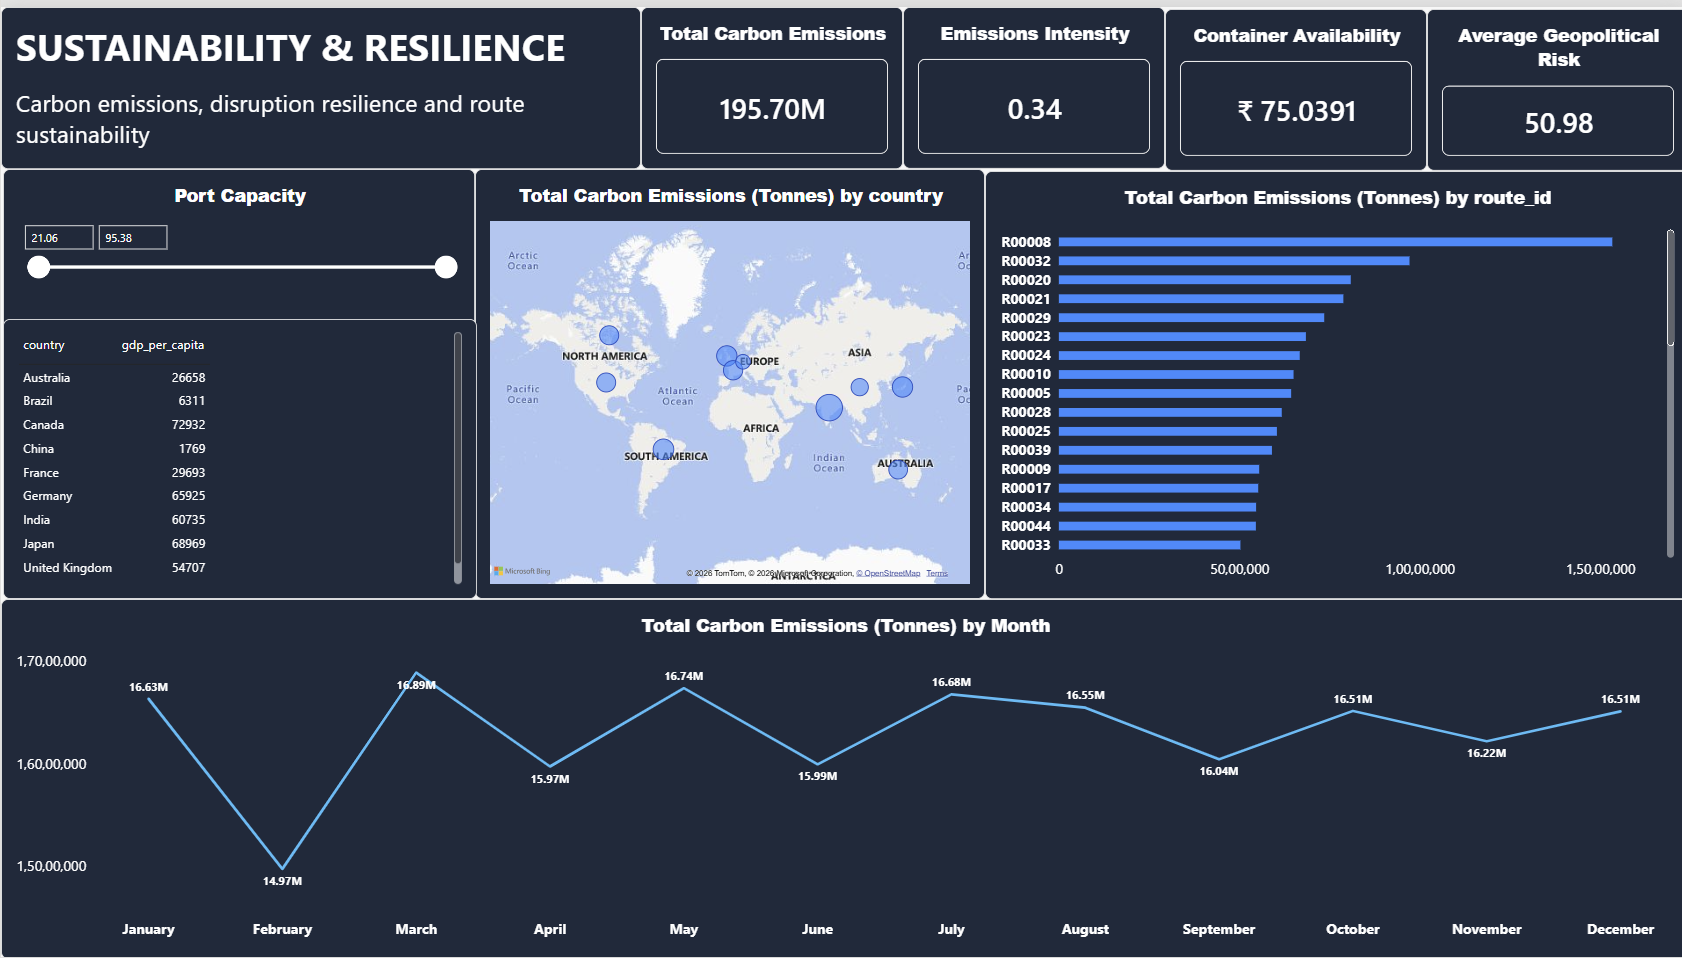

This screenshot's page, from the dashboard's own definition file:
{"tool":"powerbi","page":{"name":"Sustainability & Supply Chain Resilience","canvas":[1920,1080],"ordinal":4},"visuals":[{"type":"cardVisual","title":"Total Carbon Emissions","fields":{"Data":["_Measures.Total Carbon Emissions (Tonnes)"]},"box":[728,0,298,184.3],"z":0},{"type":"cardVisual","title":"Emissions Intensity","fields":{"Data":["_Measures.Average Emissions per Tonne"]},"box":[1026,0,298,184],"z":1000},{"type":"cardVisual","title":"Container Availability","fields":{"Data":["_Measures.Average Container Availability"]},"box":[1324,2.3,298,184],"z":2000},{"type":"cardVisual","title":"Average Geopolitical Risk","fields":{"Data":["_Measures.Average Geopolitical Risk"]},"box":[1622,2.3,298,184],"z":3000},{"type":"lineChart","fields":{"Category":["fact_commodity_market.date.Variation.Date Hierarchy.Month"],"Y":["_Measures.Total Carbon Emissions (Tonnes)"]},"box":[0,673.4,1920,409.5],"z":4000},{"type":"clusteredBarChart","fields":{"Category":["fact_route_operation.route_id"],"Y":["_Measures.Total Carbon Emissions (Tonnes)"]},"box":[1119.2,186.5,800.8,486.8],"z":5000},{"type":"map","fields":{"Category":["dim_origin_country.country"],"Size":["_Measures.Total Carbon Emissions (Tonnes)"]},"box":[539.1,184.3,580.1,489.1],"z":6000},{"type":"slicer","title":"Port Capacity","fields":{"Values":["dim_origin_country.port_capacity_index"]},"box":[3,187.9,536.4,181.8],"z":7000},{"type":"tableEx","fields":{"Values":["dim_origin_country.country","dim_origin_country.gdp_per_capita"]},"box":[2.3,354.9,539.1,318.5],"z":8000},{"type":"textbox","box":[0,0,728,184.3],"z":9000}]}

Visuals, with their boxes in screenshot pixels (x1, y1, x2, y2), scaled from the page's 1920x1080 canvas onto the 1682x958 screenshot:
"Total Carbon Emissions" cardVisual: bbox(638, 0, 899, 163)
"Emissions Intensity" cardVisual: bbox(899, 0, 1160, 163)
"Container Availability" cardVisual: bbox(1160, 2, 1421, 165)
"Average Geopolitical Risk" cardVisual: bbox(1421, 2, 1681, 165)
lineChart - fact_commodity_market.date.Variation.Date Hierarchy.Month x _Measures.Total Carbon Emissions (Tonnes): bbox(0, 597, 1681, 957)
clusteredBarChart - fact_route_operation.route_id x _Measures.Total Carbon Emissions (Tonnes): bbox(980, 165, 1681, 597)
map - dim_origin_country.country x _Measures.Total Carbon Emissions (Tonnes): bbox(472, 163, 980, 597)
"Port Capacity" slicer: bbox(3, 167, 473, 328)
tableEx - dim_origin_country.country x dim_origin_country.gdp_per_capita: bbox(2, 315, 474, 597)
textbox: bbox(0, 0, 638, 163)
